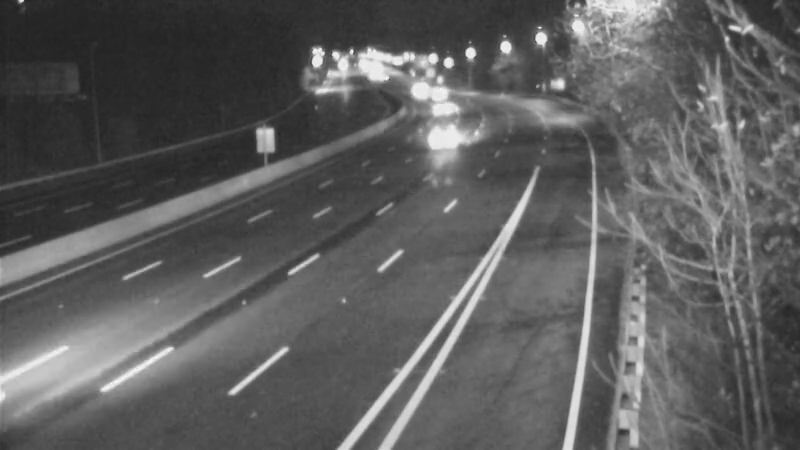vehicle: (392, 66, 442, 116), (411, 69, 461, 119), (418, 82, 468, 132), (425, 110, 475, 160)
